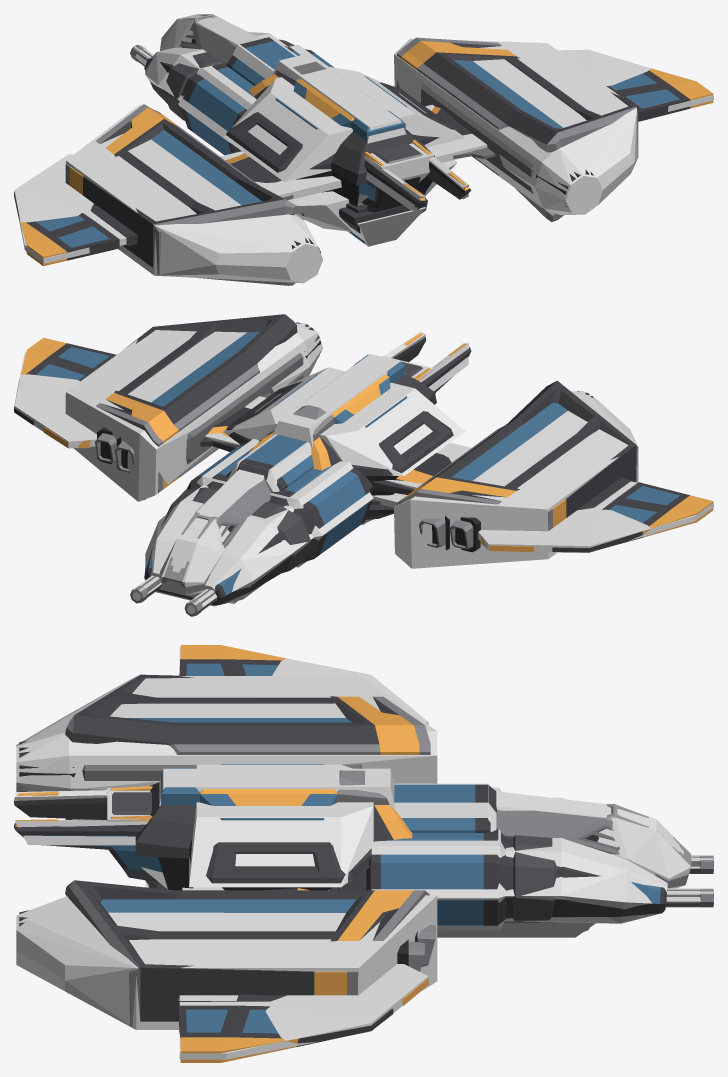
Rendered from SM_Ship_Bomber_01.fbx.
The picture shows the model from 3 angles, top to bottom: view 1: azimuth 30°, elevation 25°; view 2: azimuth 150°, elevation 25°; view 3: azimuth 270°, elevation 25°; orthographic projection. The views are drawn at different scales.
Parts seen in each view (by area): view 1: SM_Ship_Bomber_01_ConvexHulls, SM_Ship_Bomber_01_LOD0; view 2: SM_Ship_Bomber_01_ConvexHulls, SM_Ship_Bomber_01_LOD0; view 3: SM_Ship_Bomber_01_LOD0, SM_Ship_Bomber_01_ConvexHulls.
Boxes of the visible parts, x1,y1,x2,y2 form: SM_Ship_Bomber_01_ConvexHulls: (14, 14, 713, 283); SM_Ship_Bomber_01_LOD0: (14, 14, 713, 285); SM_Ship_Bomber_01_ConvexHulls: (14, 323, 713, 616); SM_Ship_Bomber_01_LOD0: (14, 314, 713, 616); SM_Ship_Bomber_01_LOD0: (14, 645, 713, 1062); SM_Ship_Bomber_01_ConvexHulls: (15, 647, 713, 1059).
Bounding box in the file's own units: 2191 × 3009 × 537.
1 material, 1 textured.
